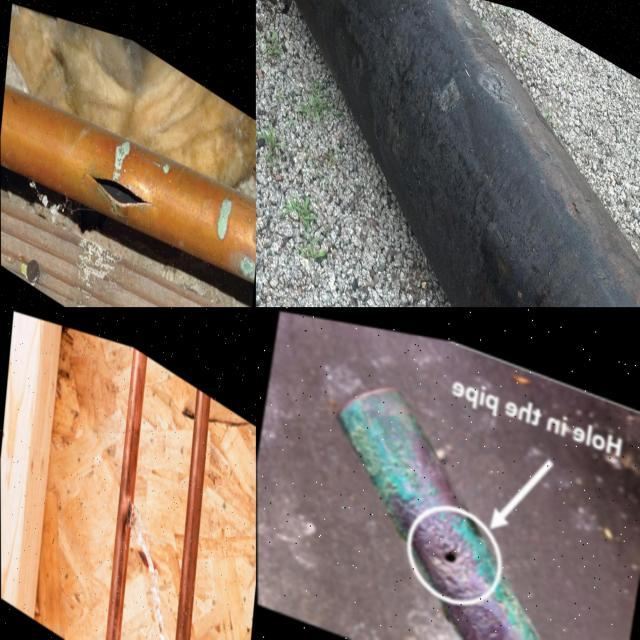hole: (440, 534, 463, 563)
rupture: (86, 153, 158, 226), (124, 489, 136, 527)
